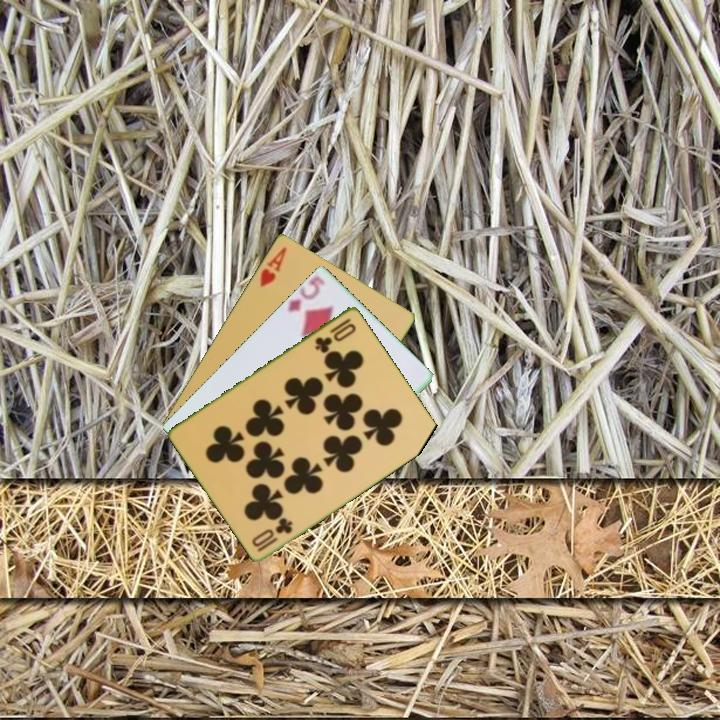10c: (311, 314, 359, 355), (253, 514, 296, 555)
5d: (284, 275, 326, 315)
Ah: (256, 243, 290, 290)
